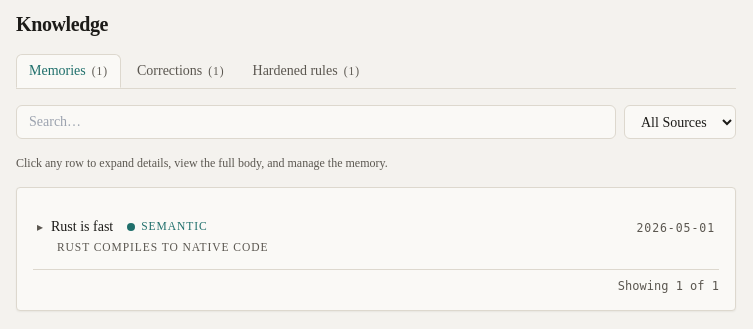
Scenario: Knowledge › renders hardened rules from client data when Hardened rules tab clicked
The image size is (753, 329).
Click the button "Hardened rules(1)" at {"x": 306, "y": 71}, box [240, 54, 372, 88]
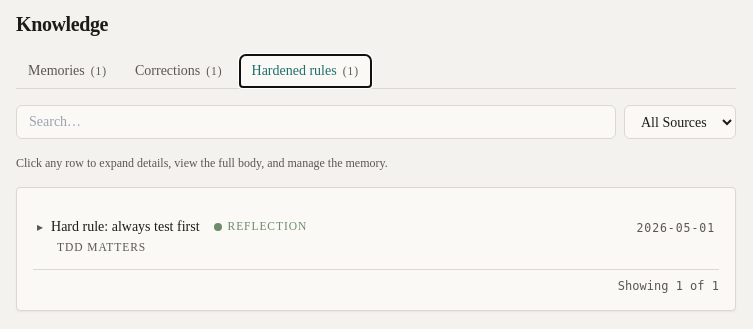
Expected: the text "Hard rule: always test first" is shown, [51, 217, 200, 237]
